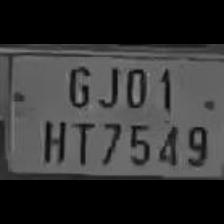0: (120, 62, 150, 110)
1: (153, 62, 177, 114)
4: (154, 118, 180, 168)
5: (121, 116, 151, 166)
7: (94, 116, 120, 166)
9: (180, 120, 210, 168)
G: (61, 60, 93, 108)
H: (37, 116, 67, 164)
J: (96, 60, 120, 108)
T: (66, 116, 96, 166)
